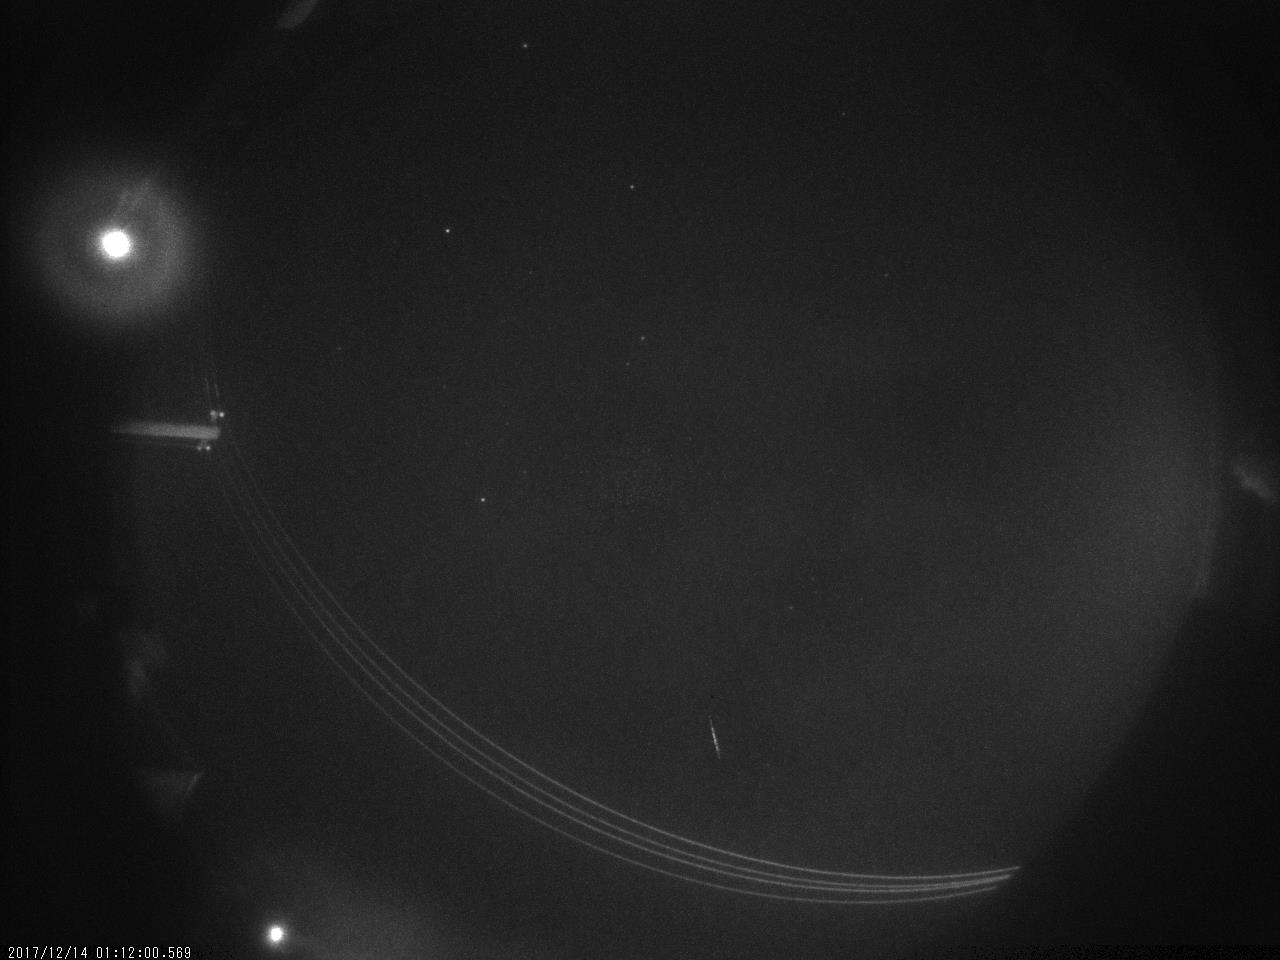meteor: (694, 704, 738, 774)
